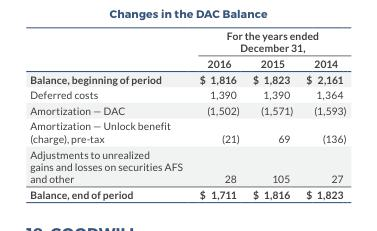table: (29, 28, 345, 200)
table column: (29, 28, 190, 200), (190, 28, 245, 200), (245, 28, 298, 200), (298, 28, 345, 200)
table column header: (29, 28, 345, 70)
table row: (29, 145, 345, 186), (29, 117, 345, 145), (29, 28, 345, 55), (29, 70, 345, 86), (29, 101, 345, 117), (29, 55, 345, 70), (29, 86, 345, 101), (29, 186, 345, 200)
table spanning cell: (190, 28, 345, 55)
